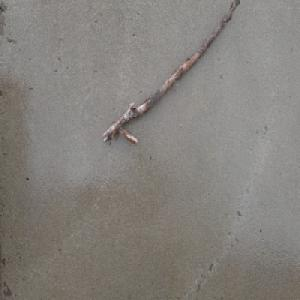Wood: (102, 0, 240, 145)
